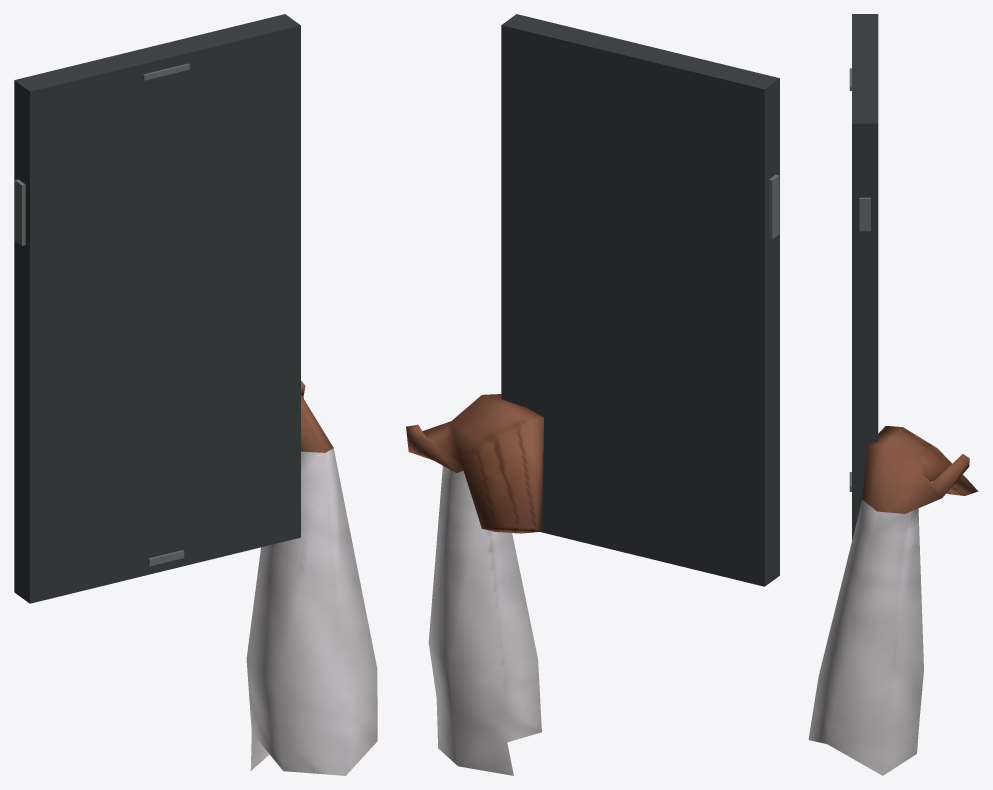
File: phone_hand.glb
3 renders of one model, left to right at view 1: azimuth 30°, elevation 25°; view 2: azimuth 150°, elevation 25°; view 3: azimuth 270°, elevation 25°, orthographic. The views are drawn at different scales.
Visible parts, largest first — view 1: Phone graphite body, Alex original right forearm and hand, Volume rocker; view 2: Phone graphite body, Alex original right forearm and hand, Volume rocker; view 3: Alex original right forearm and hand, Phone graphite body, Power key.
Part boxes in pixels (x1,y1,x2,y2): Phone graphite body: (14, 14, 300, 603); Alex original right forearm and hand: (246, 381, 377, 775); Volume rocker: (14, 179, 25, 245); Phone graphite body: (501, 14, 779, 586); Alex original right forearm and hand: (406, 394, 543, 775); Volume rocker: (769, 174, 779, 239); Alex original right forearm and hand: (808, 426, 978, 775); Phone graphite body: (852, 14, 878, 540); Power key: (859, 197, 870, 231).
Size of the model in its own units: 0.4152 by 0.8778 by 0.2152.
Materials: 3 (1 with a texture image).
